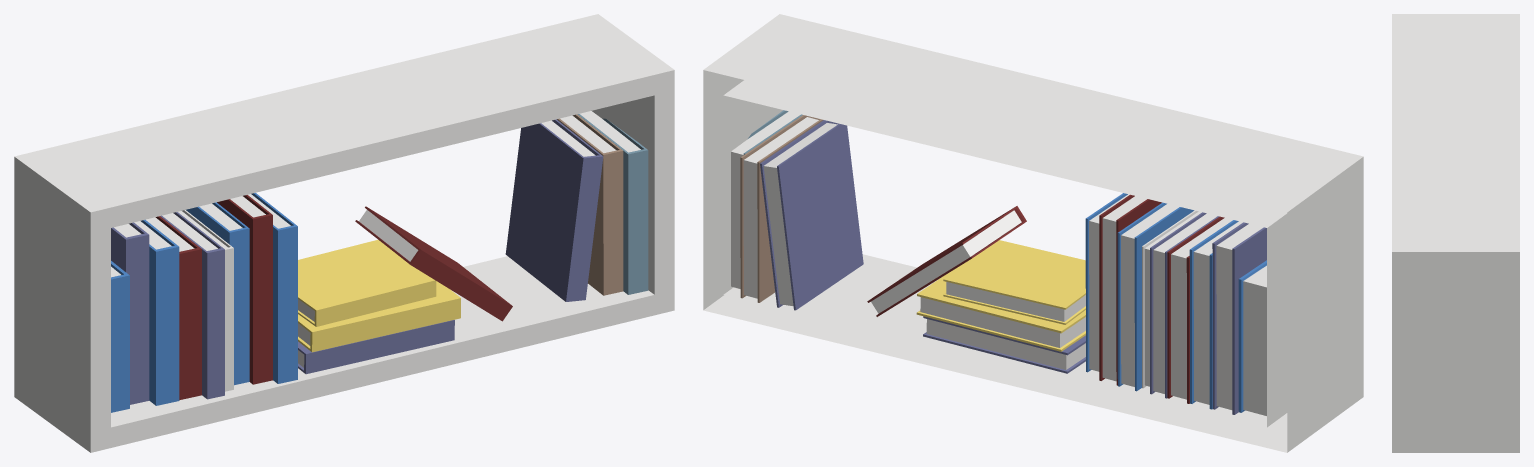
File: Shelf_with_books_2.fbx
The picture shows the model from 3 angles, left to right: view 1: azimuth 30°, elevation 25°; view 2: azimuth 150°, elevation 25°; view 3: azimuth 270°, elevation 25°; orthographic projection. The views are drawn at different scales.
Visible parts, largest first — view 1: Shelf_with_books_2; view 2: Shelf_with_books_2; view 3: Shelf_with_books_2.
Boxes of the visible parts, box(x1,y1,x2,y2) form: Shelf_with_books_2: box(14, 14, 674, 452); Shelf_with_books_2: box(703, 14, 1363, 452); Shelf_with_books_2: box(1392, 14, 1519, 452).
Size of the model in its own units: 160 by 36.38 by 63.12.
